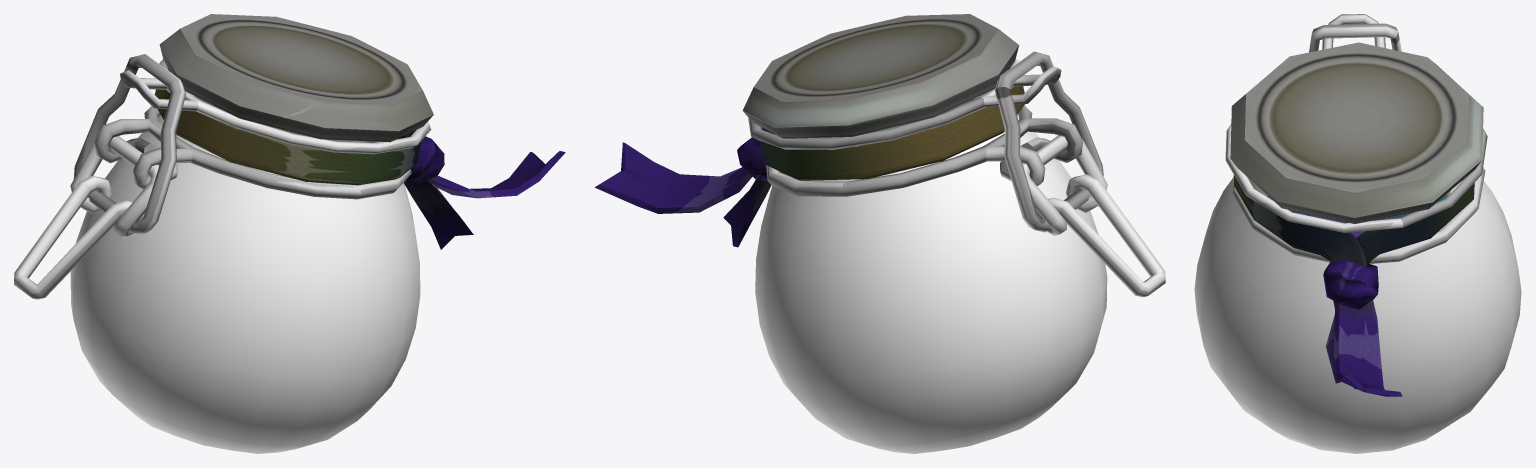
The model's file is shield.glb.
3 views of the same model, side by side, from view 1: azimuth 30°, elevation 25°; view 2: azimuth 150°, elevation 25°; view 3: azimuth 270°, elevation 25° (orthographic). The views are drawn at different scales.
Parts seen in each view (by area): view 1: Items_MineralPowder_06; view 2: Items_MineralPowder_06; view 3: Items_MineralPowder_06.
Boxes of the visible parts, x1,y1,x2,y2 form: Items_MineralPowder_06: (14,14,565,453); Items_MineralPowder_06: (594,14,1165,453); Items_MineralPowder_06: (1194,14,1521,453).
Size of the model in its own units: 0.6148 by 0.425 by 0.3461.
2 materials, 1 textured.
